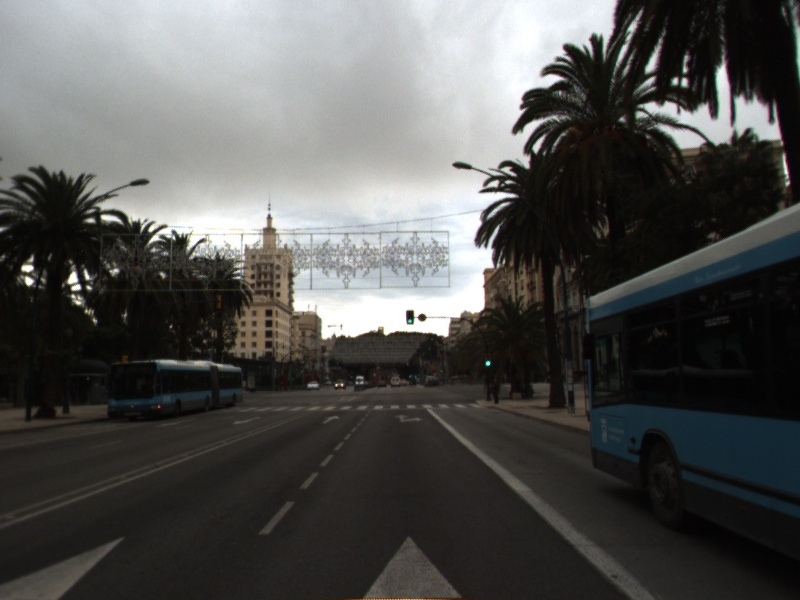STRAIGHT: (320, 413, 342, 426)
STRAIGHT_RIGHT: (393, 412, 425, 424)
